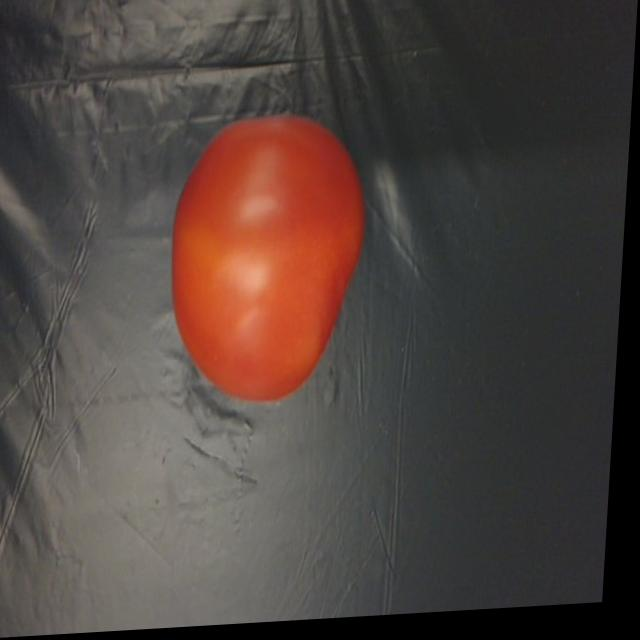kirmizi: (160, 90, 386, 422)
